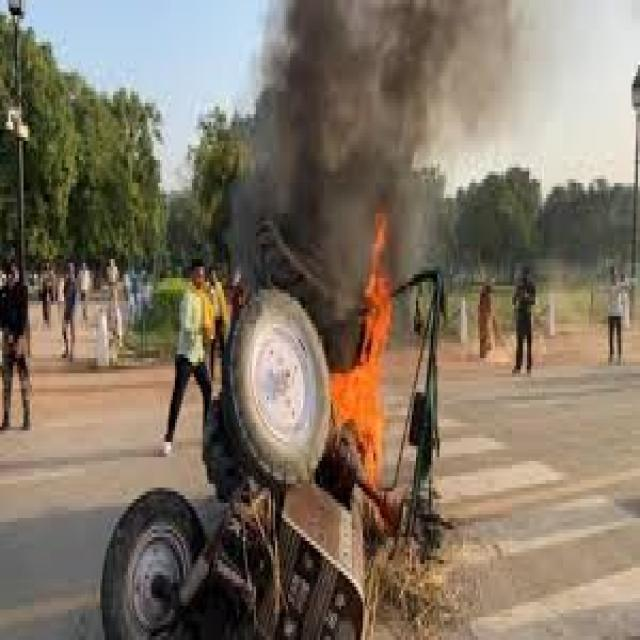Fire: (336, 208, 391, 493)
Smoke: (240, 79, 368, 288), (264, 2, 548, 86), (372, 75, 530, 205), (393, 203, 435, 331)
